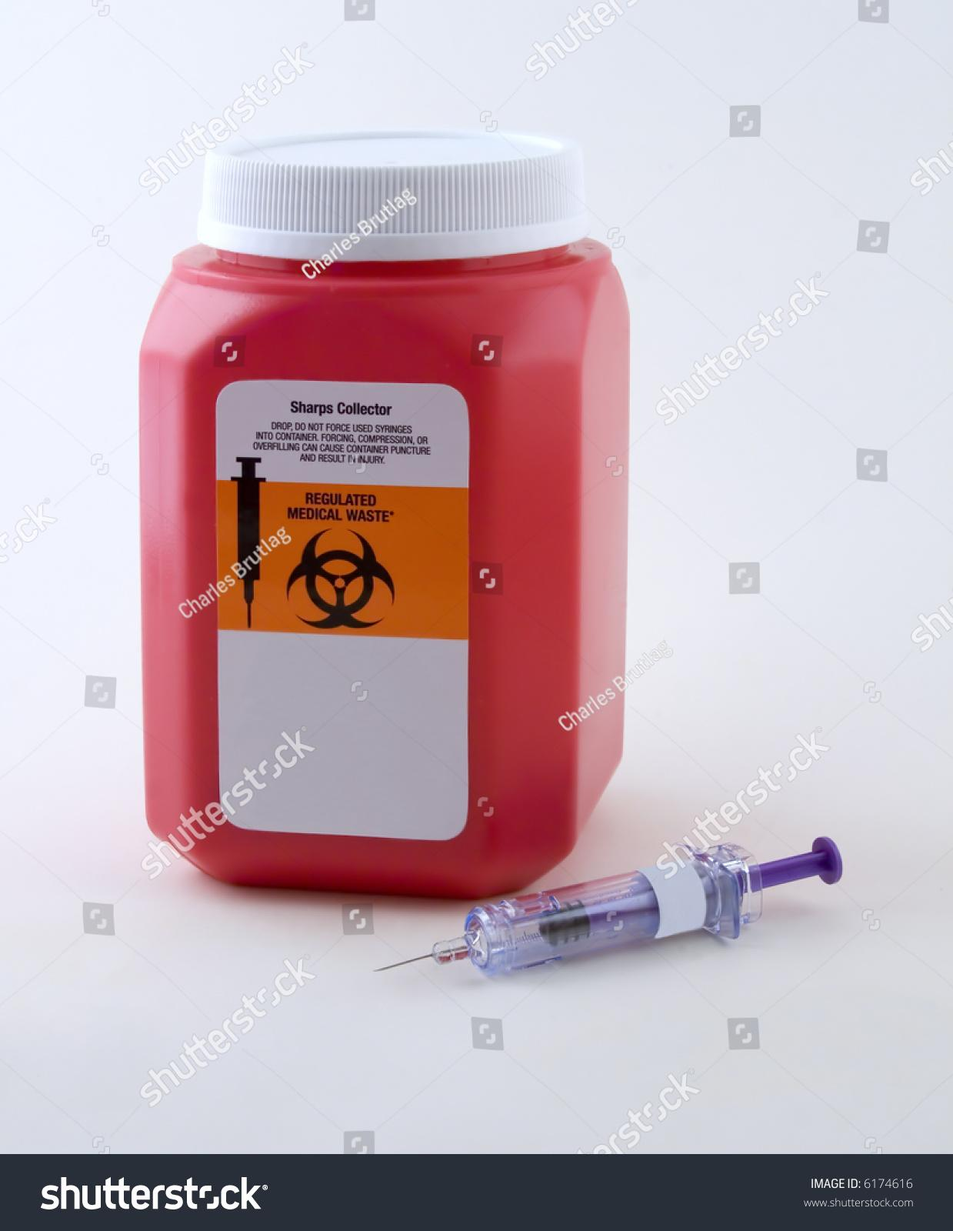Syringe: (408, 837, 841, 974)
